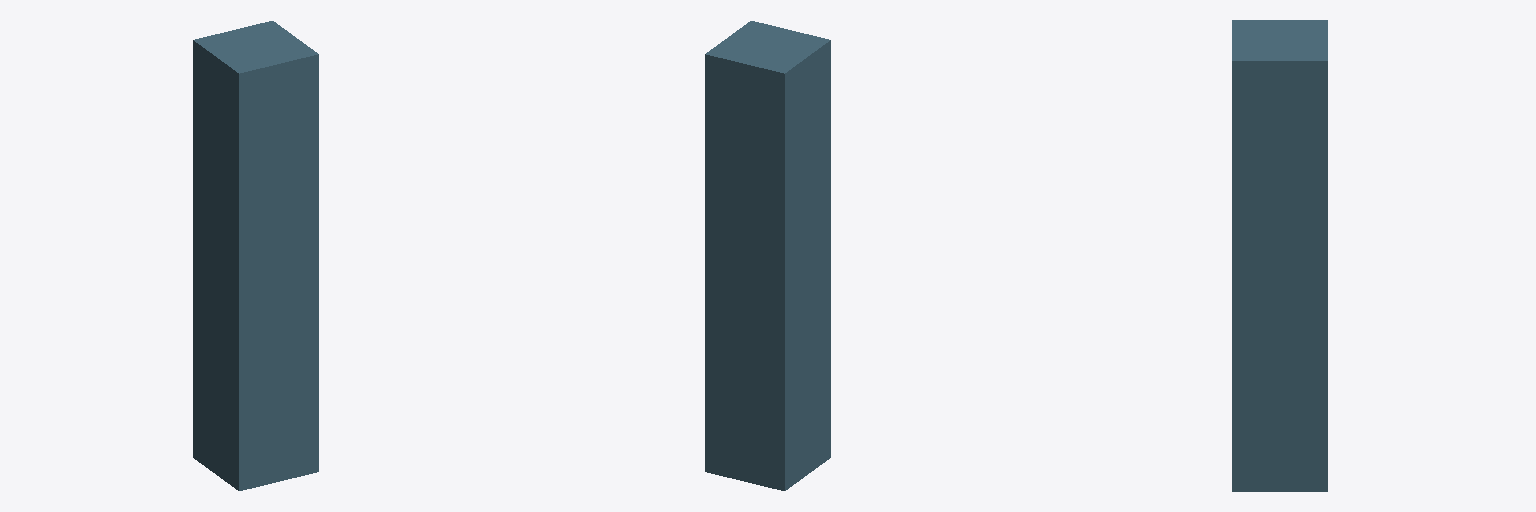
robot.urdf — broom_holder:
<?xml version="1.0"?>
<robot name="broom_holder">
    <link name="robot_base">
        <inertial>
            <origin xyz="0 0 0.250004" rpy="-3.141593 3.141593 -3.141593" />
            <inertia ixx="0.041666664866109" ixy="0.0" ixz="0.0" iyz="0.0" izz="0.0083333333224678" iyy="0.041666664866109" />
            <mass value="4.9999995231628" />
        </inertial>
        <collision name="broom_holder">
            <origin xyz="0 0 0.250004" rpy="-3.141593 3.141593 -3.141593" />
            <geometry>
                <box size="0.100000 0.100000 0.500000" />
            </geometry>
        </collision>
        <visual name="broom_holder">
            <origin xyz="0 0 0.250004" rpy="-3.141593 3.141593 -3.141593" />
            <geometry>
                <box size="0.100000 0.100000 0.500000" />
            </geometry>
            <material name="robot_base_material">
                <color rgba="0.350000 0.480000 0.540000 1.0" />
            </material>
        </visual>
    </link>
</robot>

--- Facts derived from the render (not from the file) ---
The picture shows the robot from 3 angles, left to right: view 1: azimuth 30°, elevation 25°; view 2: azimuth 150°, elevation 25°; view 3: azimuth 270°, elevation 25°; orthographic projection.
Model broom_holder with 1 links and 0 joints (none), rooted at robot_base, posed all joints at 0.
Links seen in each view (by area): view 1: robot_base; view 2: robot_base; view 3: robot_base.
Boxes of the visible links, x1,y1,x2,y2 form: robot_base: (193, 21, 318, 490); robot_base: (705, 21, 830, 490); robot_base: (1232, 20, 1327, 491).
Bounding box of the posed robot: 0.1 × 0.1 × 0.5 m (x, y, z).
Geometry: primitives only (box / cylinder / sphere), no mesh files.